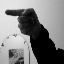g: (4, 7, 41, 36)
